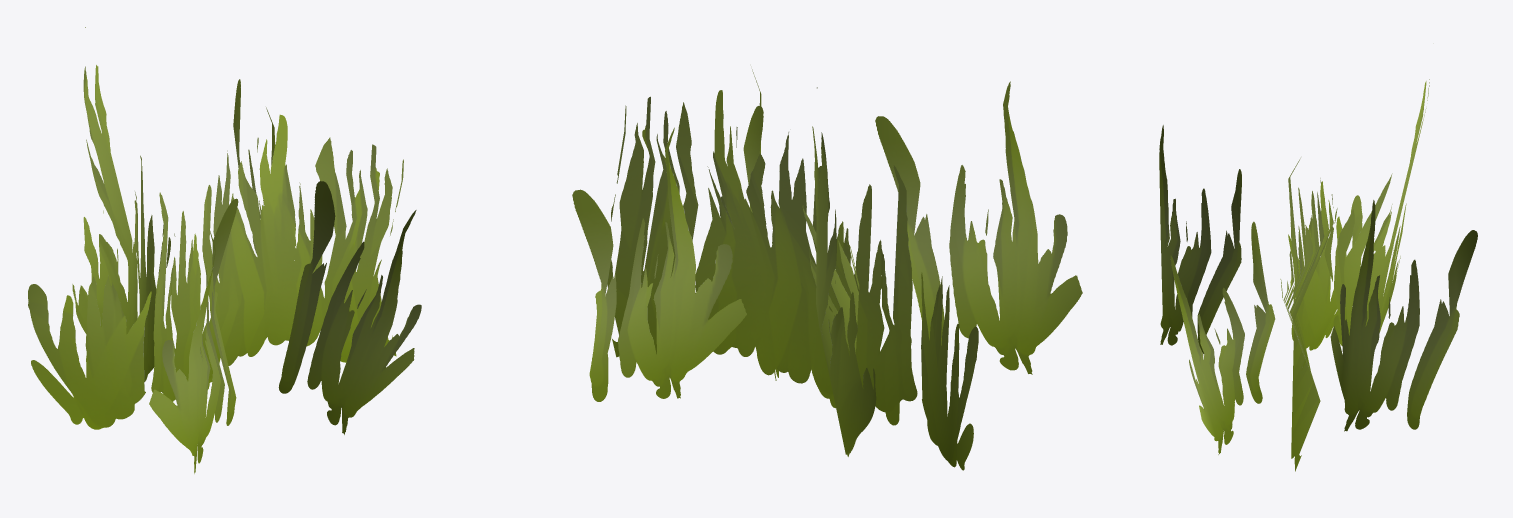
Rendered from Mod_Grass02.fbx.
3 views of the same model, side by side, from view 1: azimuth 30°, elevation 25°; view 2: azimuth 150°, elevation 25°; view 3: azimuth 270°, elevation 25° (orthographic). The views are drawn at different scales.
Parts seen in each view (by area): view 1: grss02; view 2: grss02; view 3: grss02.
Boxes of the visible parts, x1=… form: grss02: x1=28, y1=27, x2=421, y2=473; grss02: x1=572, y1=69, x2=1082, y2=470; grss02: x1=1159, y1=79, x2=1477, y2=471.
Size of the model in its own units: 101 by 104 by 88.01.
